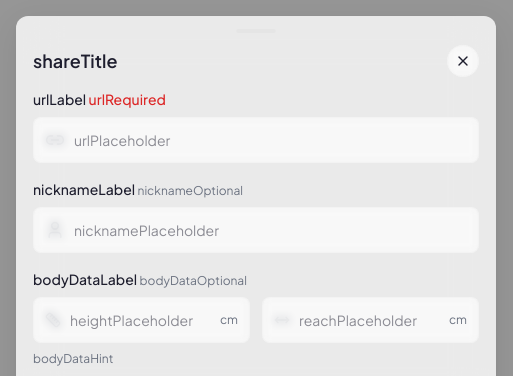
Test: BetaSubmitDrawer › URL 验证 › 小红书 URL 应检测平台
In the field with placeholder "urlPlaceholder": (256, 140) left=33, top=117, right=479, bottom=163, type "https://xhslink.com/abc123"
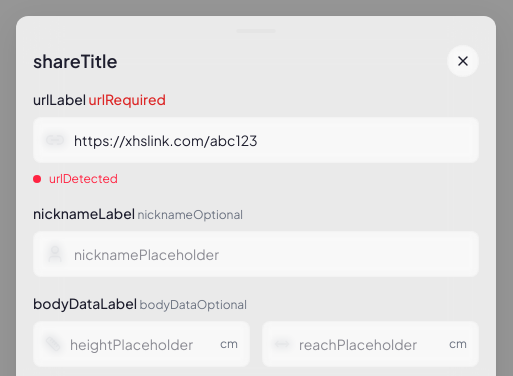
Result: the text "urlDetected" is shown at left=33, top=171, right=118, bottom=186
